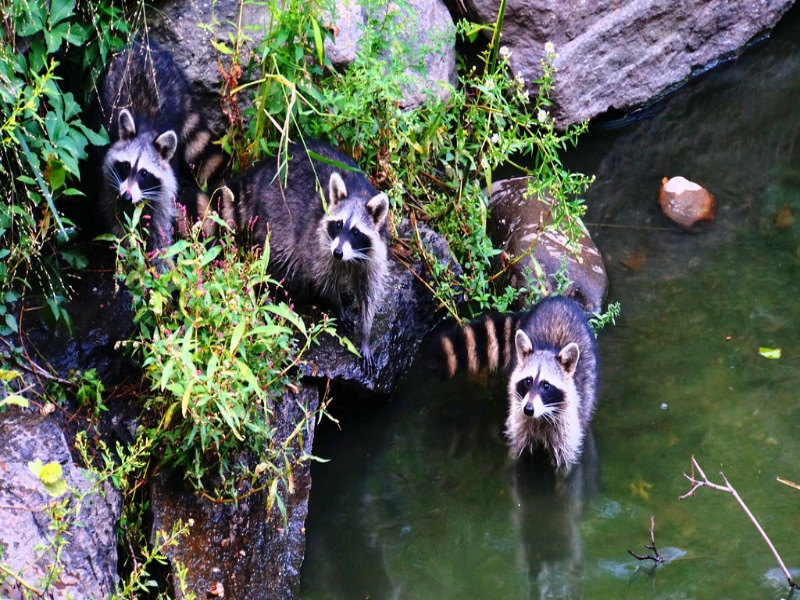raccoon: (252, 142, 391, 383), (101, 39, 200, 295), (503, 293, 606, 497)
